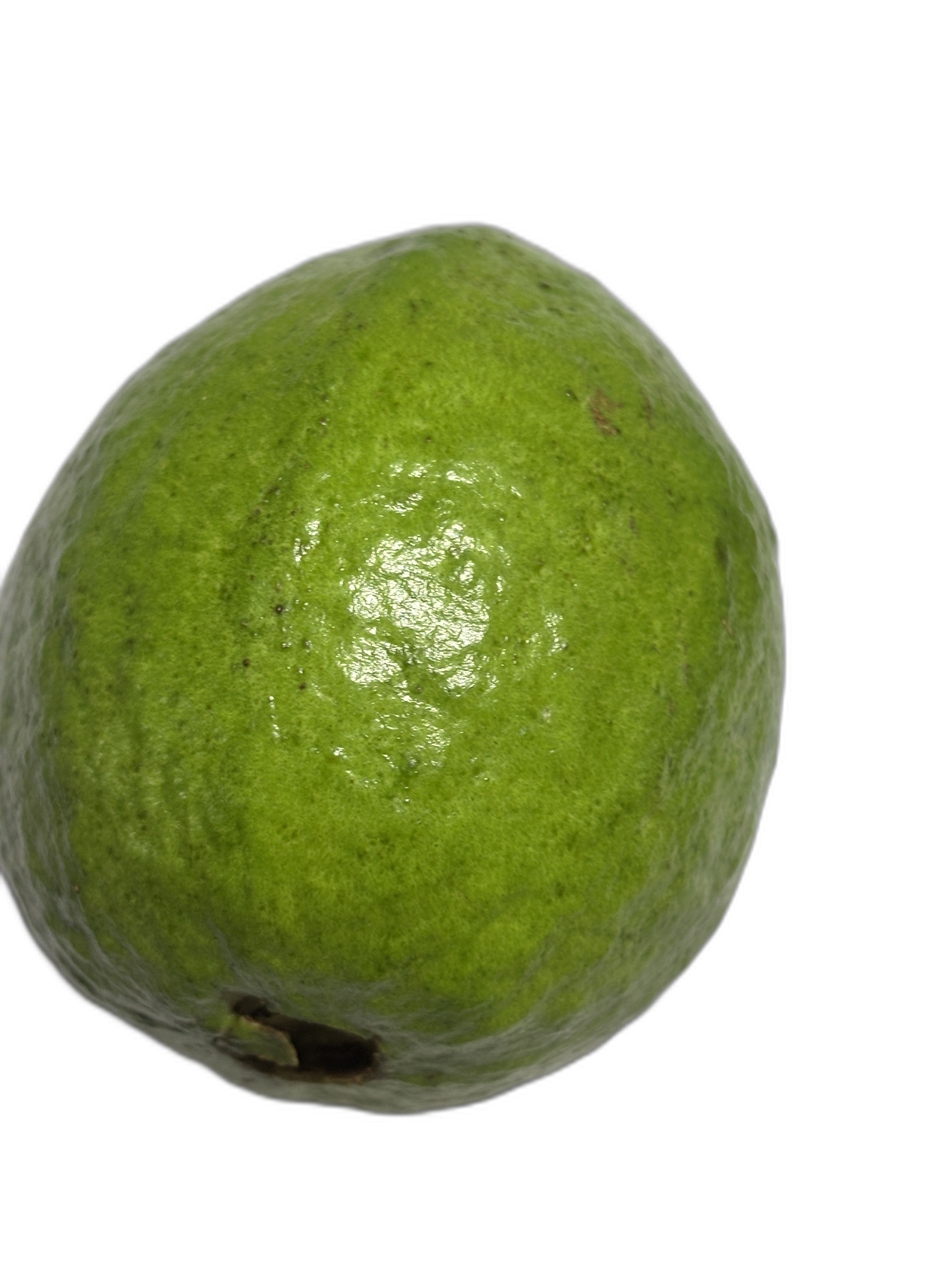guava: (175, 210, 759, 1173)
